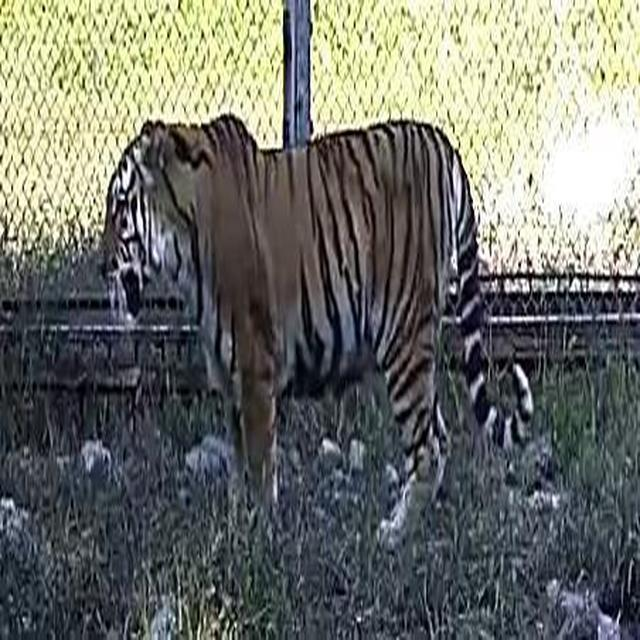tiger: (67, 93, 570, 565)
